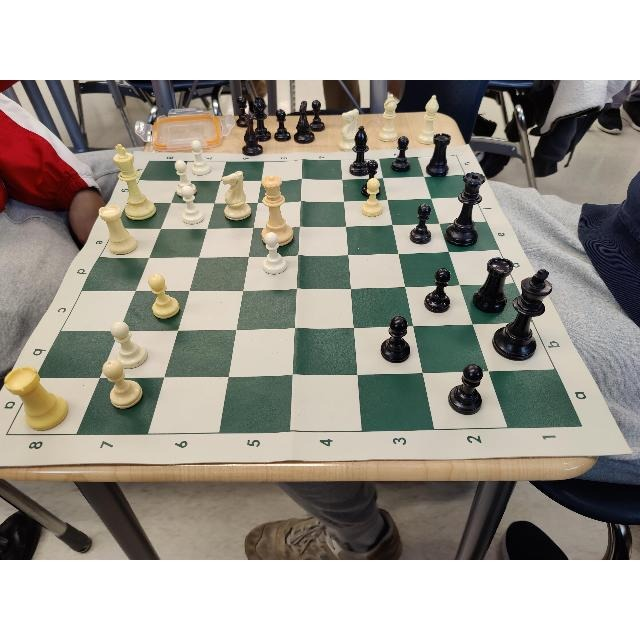black-bishop: (349, 126, 370, 176)
black-king: (492, 268, 552, 360)
black-pawn: (447, 364, 482, 415), (381, 315, 411, 363), (425, 267, 451, 312), (410, 203, 432, 244), (391, 136, 411, 172), (362, 158, 380, 195)
black-queen: (444, 172, 486, 248)
black-rook: (474, 258, 514, 314), (426, 133, 450, 177)
white-king: (113, 144, 157, 220)
white-knight: (222, 170, 252, 220)
white-pawn: (102, 359, 143, 409), (110, 321, 148, 368), (148, 274, 179, 318), (262, 231, 287, 275), (360, 178, 383, 216), (181, 187, 205, 223), (175, 160, 197, 196), (192, 142, 211, 176)
white-queen: (260, 176, 293, 246)
white-rook: (5, 367, 68, 431), (99, 205, 137, 255)
